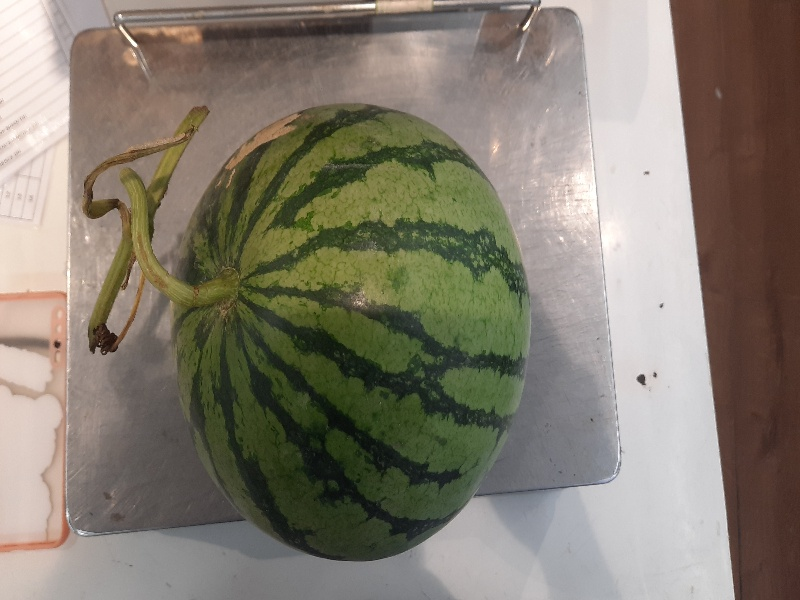fruit: (81, 97, 534, 565)
